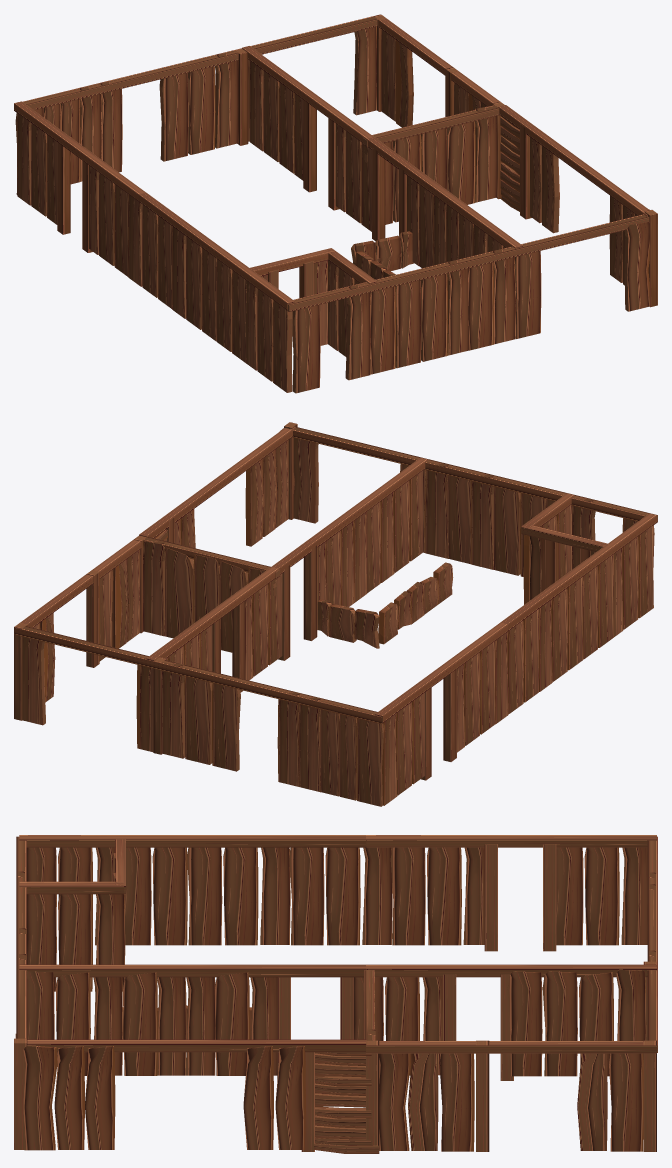
Rendered from MSH_Piso2_Muros.FBX.
3 renders of one model, top to bottom at view 1: azimuth 30°, elevation 25°; view 2: azimuth 150°, elevation 25°; view 3: azimuth 270°, elevation 25°, orthographic. The views are drawn at different scales.
Visible parts, largest first — view 1: MSH_Piso2_Muros, MSH_Piso2_Muros_09, MSH_Piso2_Muros_08, MSH_Piso2_Muros_06, MSH_Piso2_Muros_07, MSH_Piso2_Muros_02, MSH_Piso2_Muros_05, MSH_Piso2_Muros_01, MSH_Piso2_Muros_03, MSH_Piso2_Muros_04; view 2: MSH_Piso2_Muros, MSH_Piso2_Muros_06, MSH_Piso2_Muros_09, MSH_Piso2_Muros_07, MSH_Piso2_Muros_04, MSH_Piso2_Muros_05, MSH_Piso2_Muros_02, MSH_Piso2_Muros_08, MSH_Piso2_Muros_01, MSH_Piso2_Muros_03; view 3: MSH_Piso2_Muros, MSH_Piso2_Muros_06, MSH_Piso2_Muros_08, MSH_Piso2_Muros_02, MSH_Piso2_Muros_07, MSH_Piso2_Muros_03.
Boxes of the visible parts, box(x1,y1,x2,y2) form: MSH_Piso2_Muros: box(14, 14, 657, 393); MSH_Piso2_Muros_09: box(364, 106, 497, 224); MSH_Piso2_Muros_08: box(249, 60, 316, 192); MSH_Piso2_Muros_06: box(399, 167, 505, 268); MSH_Piso2_Muros_07: box(328, 118, 385, 241); MSH_Piso2_Muros_02: box(325, 248, 377, 356); MSH_Piso2_Muros_05: box(351, 231, 414, 270); MSH_Piso2_Muros_01: box(299, 260, 327, 345); MSH_Piso2_Muros_03: box(250, 248, 335, 276); MSH_Piso2_Muros_04: box(355, 251, 395, 279); MSH_Piso2_Muros: box(14, 422, 657, 806); MSH_Piso2_Muros_06: box(303, 470, 422, 640); MSH_Piso2_Muros_09: box(143, 540, 276, 652); MSH_Piso2_Muros_07: box(232, 565, 290, 692); MSH_Piso2_Muros_04: box(378, 562, 453, 644); MSH_Piso2_Muros_05: box(317, 599, 379, 648); MSH_Piso2_Muros_02: box(522, 493, 574, 604); MSH_Piso2_Muros_08: box(166, 618, 220, 708); MSH_Piso2_Muros_01: box(529, 536, 558, 600); MSH_Piso2_Muros_03: box(521, 525, 608, 551); MSH_Piso2_Muros: box(14, 835, 657, 1153); MSH_Piso2_Muros_06: box(26, 971, 290, 1079); MSH_Piso2_Muros_08: box(500, 969, 646, 1080); MSH_Piso2_Muros_02: box(19, 881, 125, 991); MSH_Piso2_Muros_07: box(340, 974, 456, 1075); MSH_Piso2_Muros_03: box(115, 839, 125, 894).
Bounding box in the file's own units: 618 × 158 × 800.
